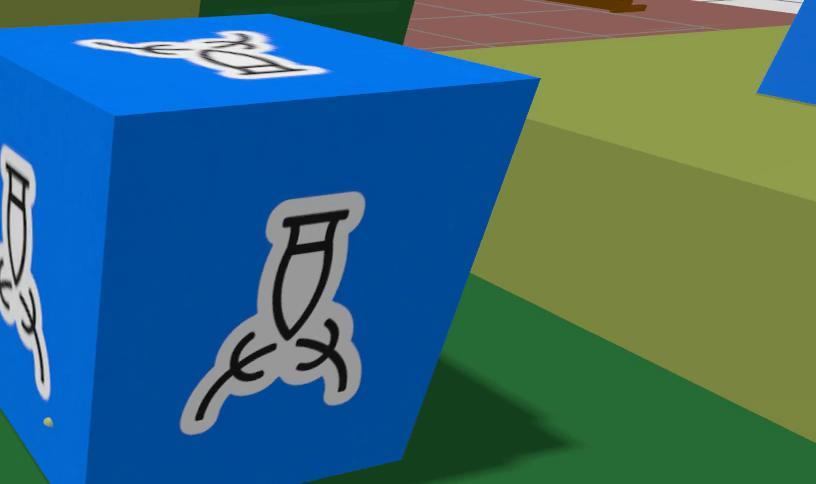KFS_REAL: (0, 14, 537, 484), (180, 193, 364, 434), (0, 145, 49, 400), (76, 30, 325, 78)
